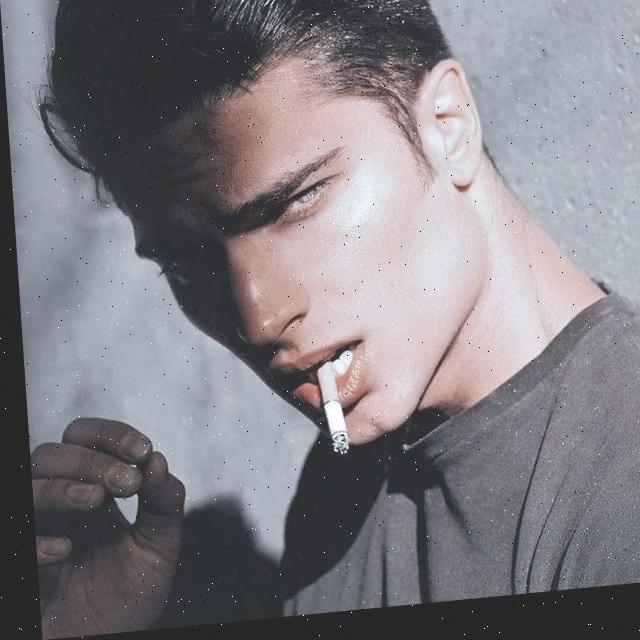cigarette: (308, 366, 344, 462)
